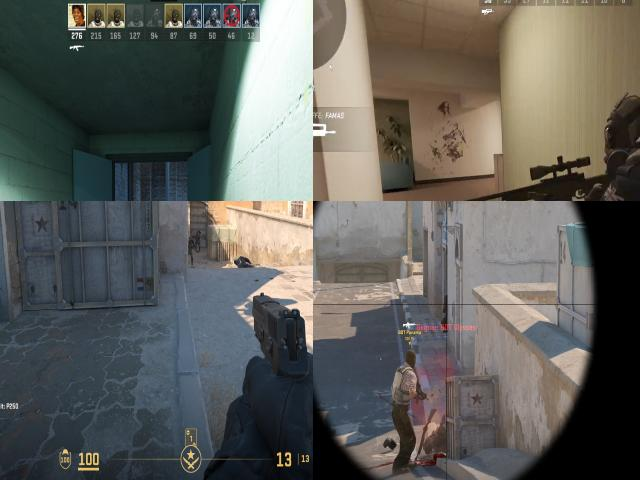CT: (592, 76, 640, 201), (443, 296, 448, 332)
CT-Head: (597, 88, 640, 179), (444, 296, 448, 301)
Dead: (424, 414, 447, 455)
T: (395, 353, 416, 471)
T-Head: (406, 352, 416, 366)
